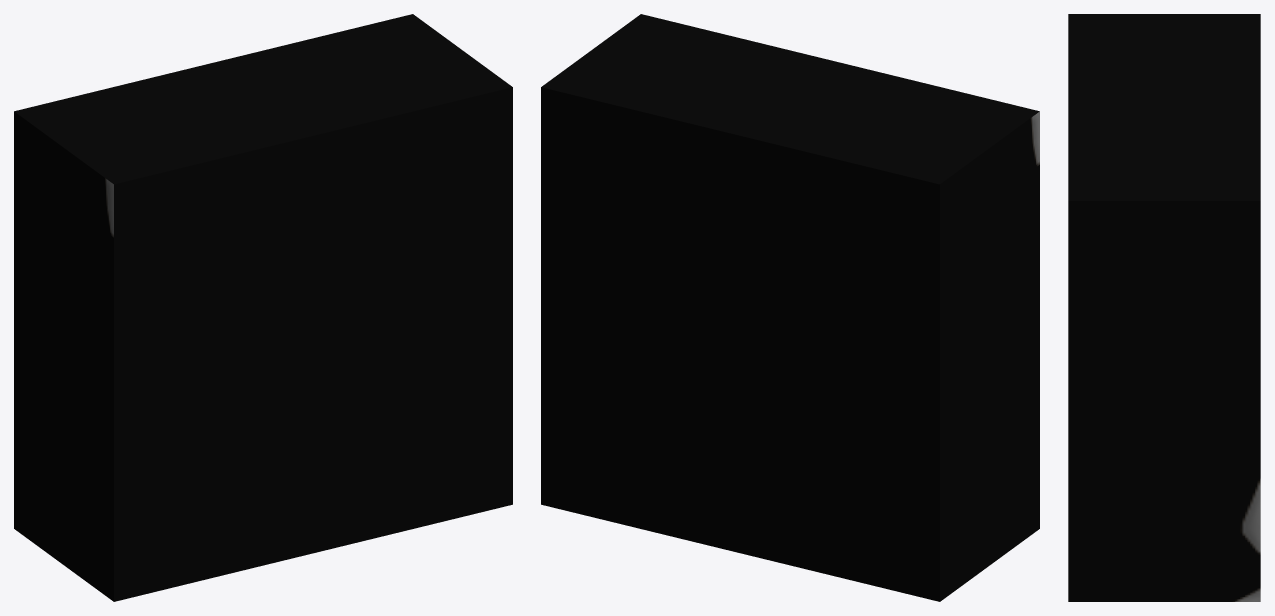
File: obj_interactive_radio_lod1.fbx
3 views of the same model, side by side, from view 1: azimuth 30°, elevation 25°; view 2: azimuth 150°, elevation 25°; view 3: azimuth 270°, elevation 25° (orthographic). The views are drawn at different scales.
Visible parts, largest first — view 1: obj_interactive_radio_on_lod1; view 2: obj_interactive_radio_on_lod1; view 3: obj_interactive_radio_on_lod1.
Boxes of the visible parts, x1,y1,x2,y2 form: obj_interactive_radio_on_lod1: [14, 14, 512, 601]; obj_interactive_radio_on_lod1: [541, 14, 1039, 601]; obj_interactive_radio_on_lod1: [1068, 14, 1260, 601].
Size of the model in its own units: 2 by 2 by 0.8683.
Materials: 1 (1 with a texture image).
